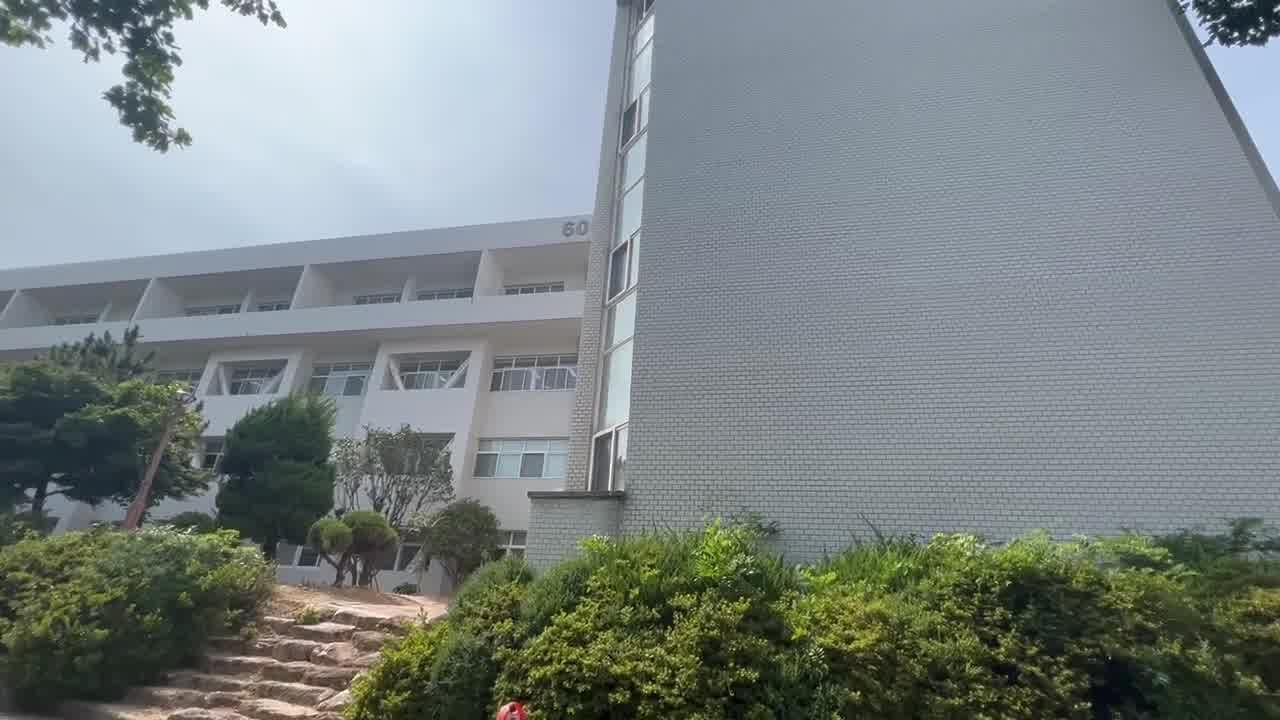building: (256, 9, 1280, 519)
